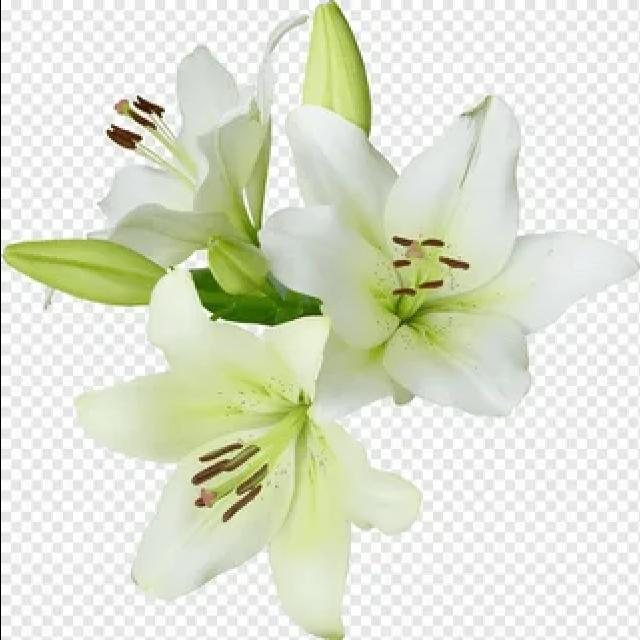lily: (253, 79, 633, 455)
